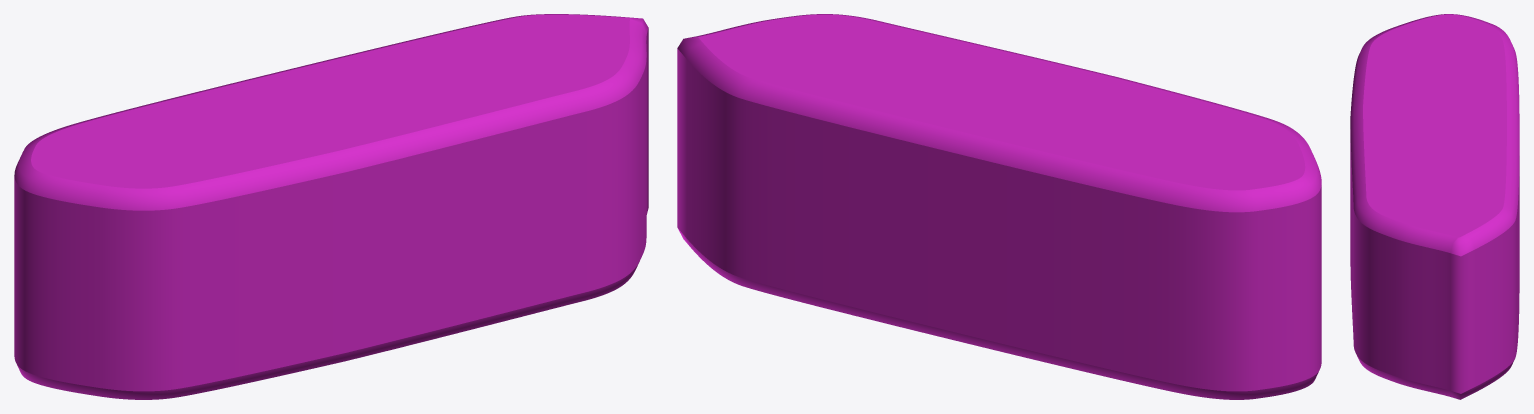
The model's file is Bubble_MinusSign.fbx.
3 views of the same model, side by side, from view 1: azimuth 30°, elevation 25°; view 2: azimuth 150°, elevation 25°; view 3: azimuth 270°, elevation 25° (orthographic). The views are drawn at different scales.
Parts seen in each view (by area): view 1: BubbleMinusSign; view 2: BubbleMinusSign; view 3: BubbleMinusSign.
Part boxes in pixels (x1,y1,x2,y2): BubbleMinusSign: (14,14,648,399); BubbleMinusSign: (677,14,1321,399); BubbleMinusSign: (1350,14,1519,399).
Size of the model in its own units: 0.4414 by 0.14 by 0.1338.
